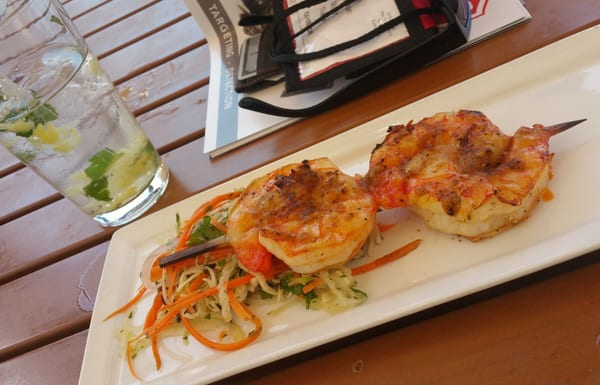soup: (227, 157, 381, 291)
